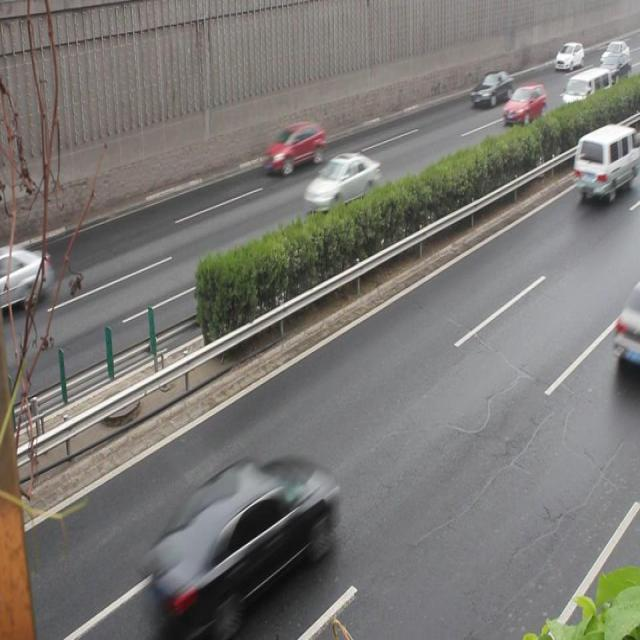car: (152, 458, 333, 621), (304, 152, 379, 213), (0, 244, 50, 311), (263, 122, 324, 175), (501, 84, 544, 126), (468, 68, 512, 106)
truck: (572, 125, 640, 202)
